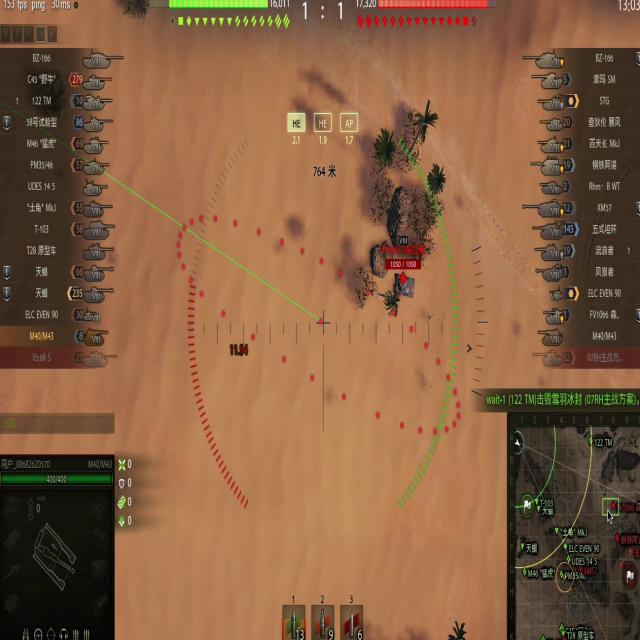tank: (388, 261, 422, 299)
